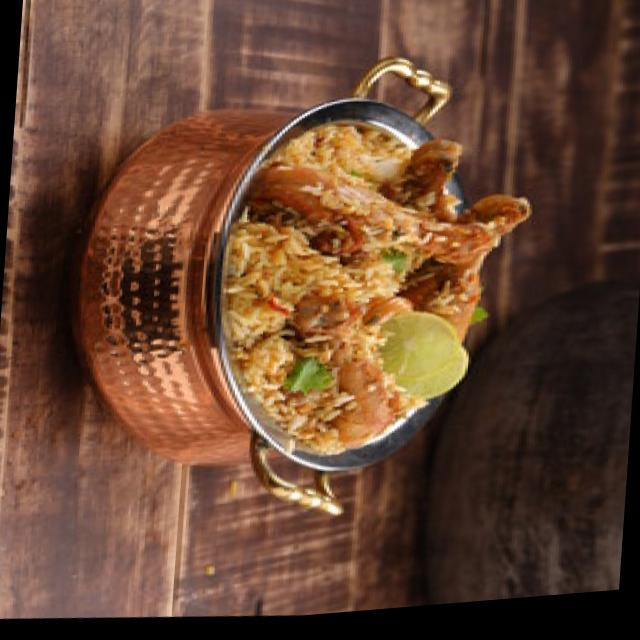BIRIYANI: (222, 125, 528, 453)
